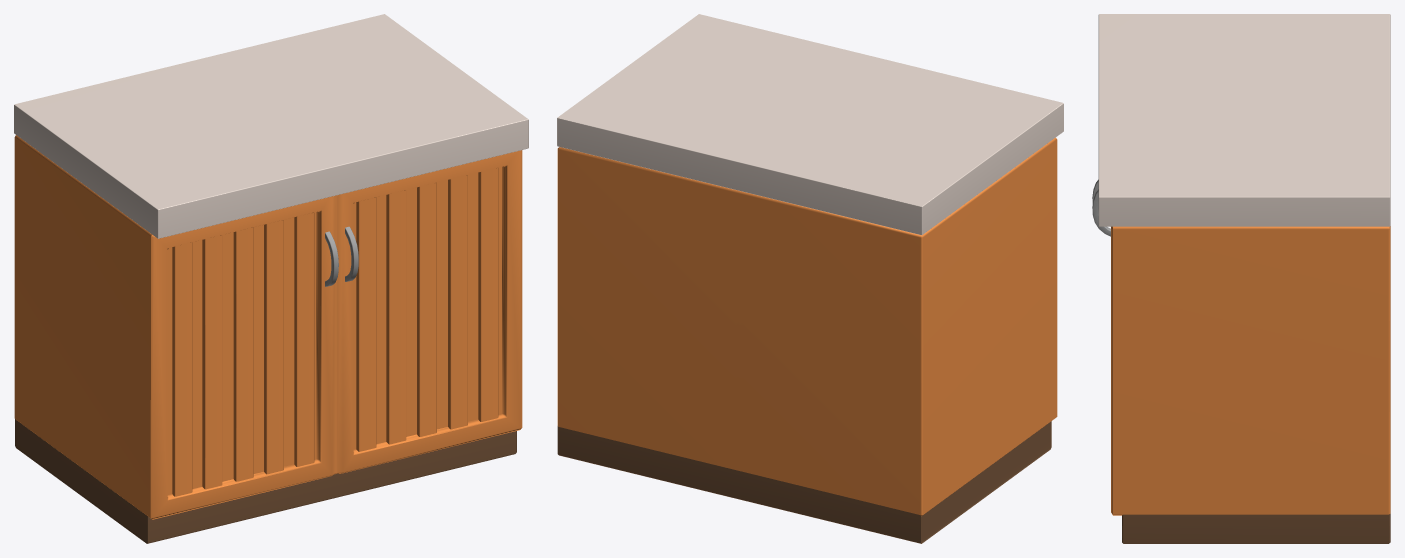
File: Kitchen_Cabinet_1.glb
3 views of the same model, side by side, from view 1: azimuth 30°, elevation 25°; view 2: azimuth 150°, elevation 25°; view 3: azimuth 270°, elevation 25° (orthographic). The views are drawn at different scales.
Parts seen in each view (by area): view 1: Kitchen_Cabinet_1; view 2: Kitchen_Cabinet_1; view 3: Kitchen_Cabinet_1.
Part boxes in pixels (bbox=[...]): Kitchen_Cabinet_1: bbox=[14, 14, 528, 543]; Kitchen_Cabinet_1: bbox=[557, 14, 1063, 543]; Kitchen_Cabinet_1: bbox=[1092, 14, 1390, 543].
Bounding box in the file's own units: 1.11 × 0.9776 × 0.7595.
Materials: 1 (1 with a texture image).
